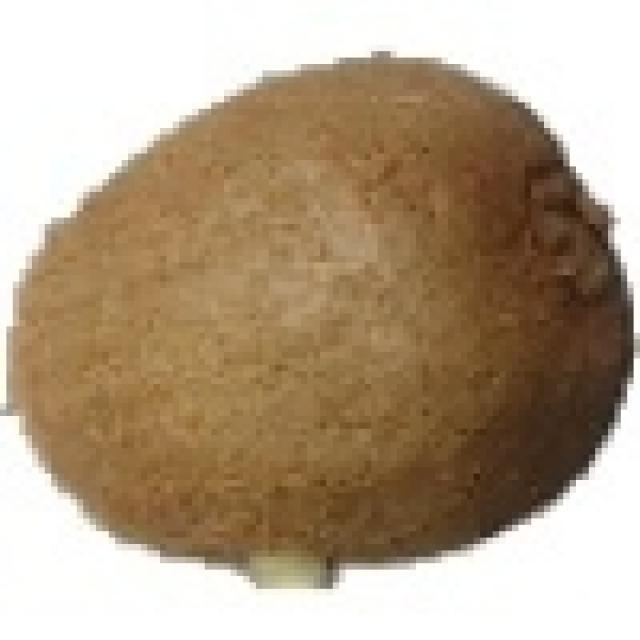kiwi: (6, 51, 621, 570)
